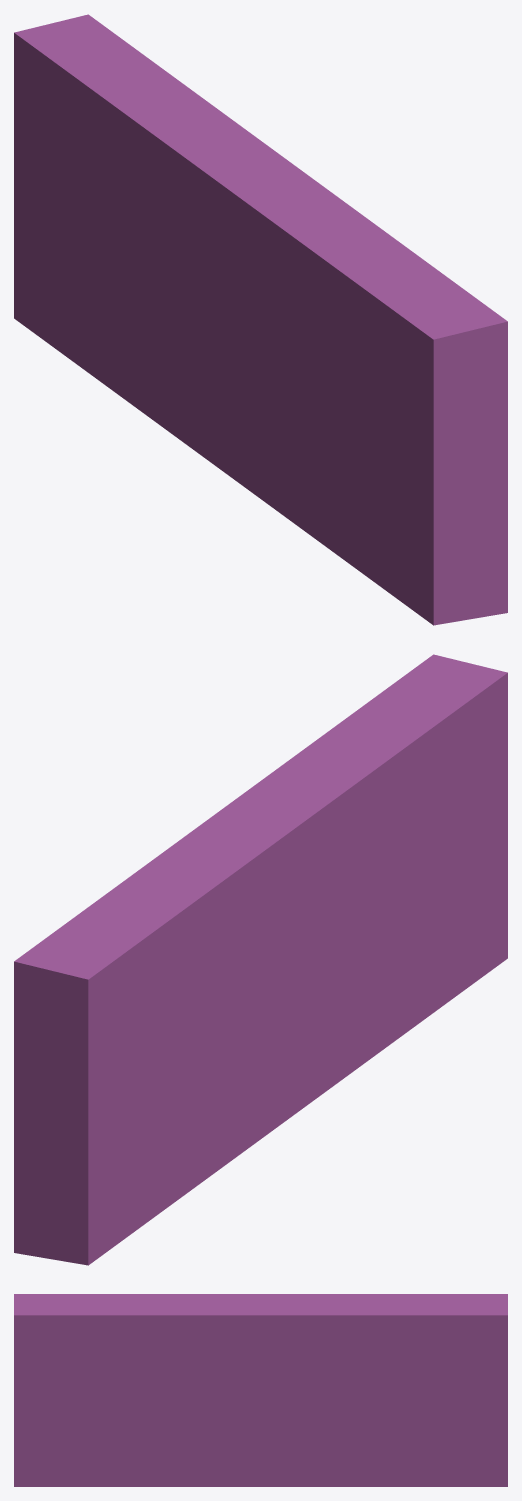
3 renders of one model, top to bottom at view 1: azimuth 30°, elevation 25°; view 2: azimuth 150°, elevation 25°; view 3: azimuth 270°, elevation 25°, orthographic. The views are drawn at different scales.
Visible parts, largest first — view 1: geometry_7; view 2: geometry_7; view 3: geometry_7.
Boxes of the visible parts, x1,y1,x2,y2 form: geometry_7: (14,14,507,625); geometry_7: (14,654,507,1265); geometry_7: (14,1294,507,1486).
Size of the model in its own units: 0.0041 by 0.0153 by 0.04.
